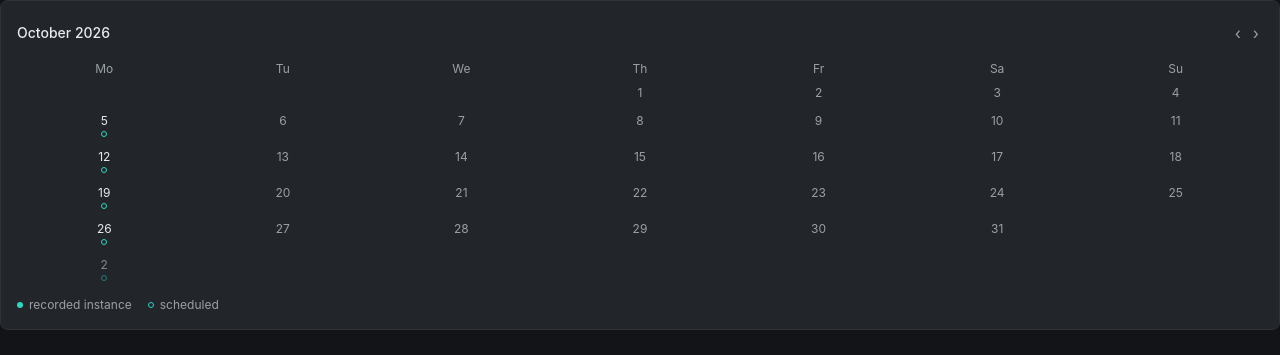
Scenario: InstanceCalendar › renders the current month with prev/next navigation
Expected: the text "October 2026" is shown, 17,23 -> 110,43
Click the button named "Next month" at (1256, 33), box 1249,17 -> 1263,49
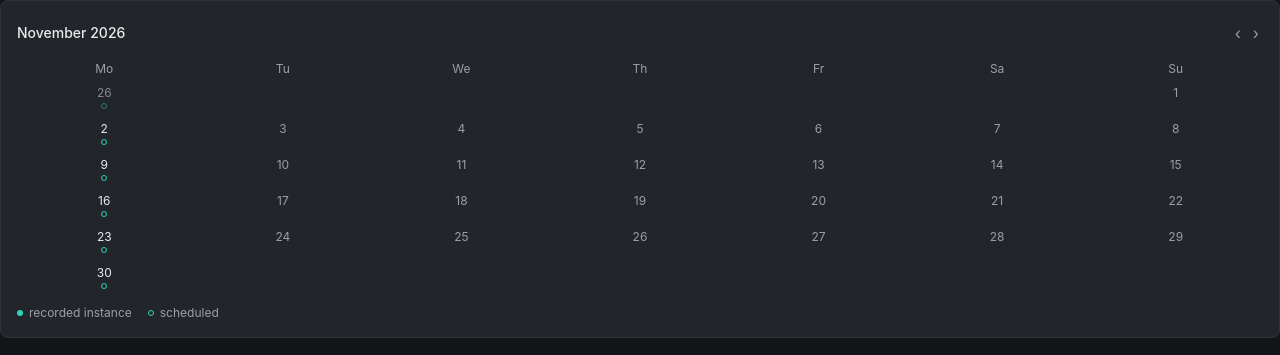
Expected: the text "November 2026" is shown, 17,23 -> 125,43
Click the button named "Previous month" at (1238, 33), box 1231,17 -> 1245,49
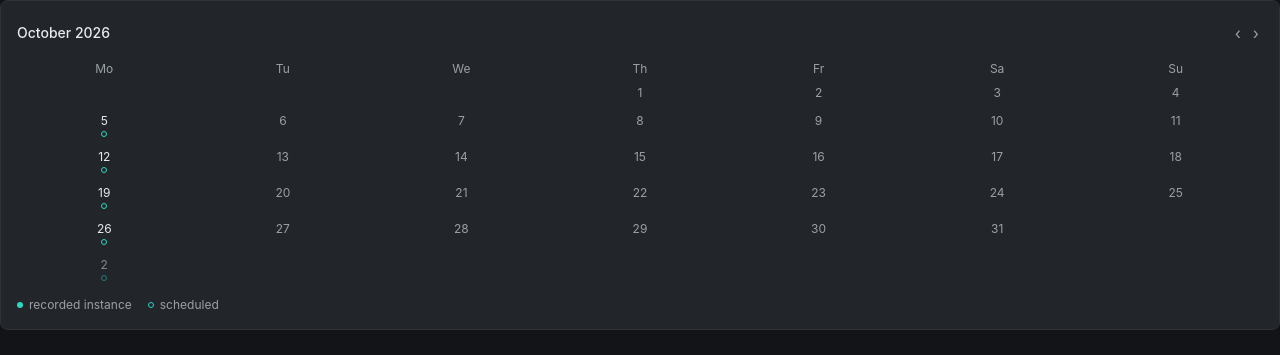
Expected: the text "October 2026" is shown, 17,23 -> 110,43
